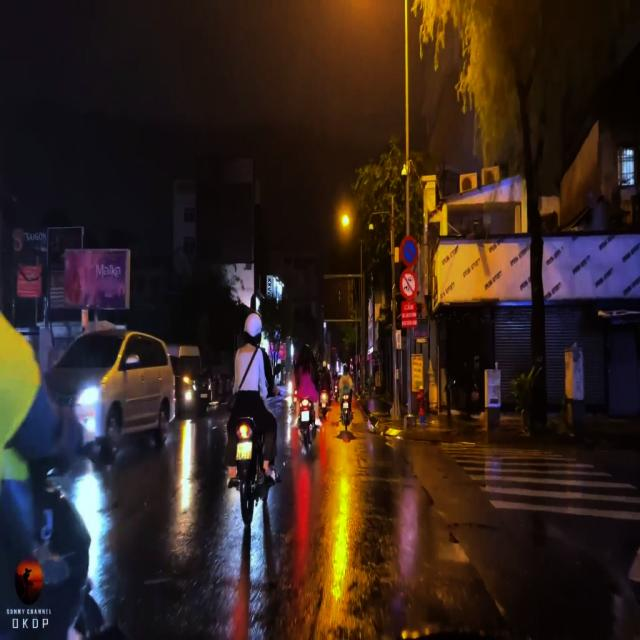cam_cac_loai_xe_3_banh: (400, 268, 418, 300)
cam_do_xe: (399, 236, 418, 268)
